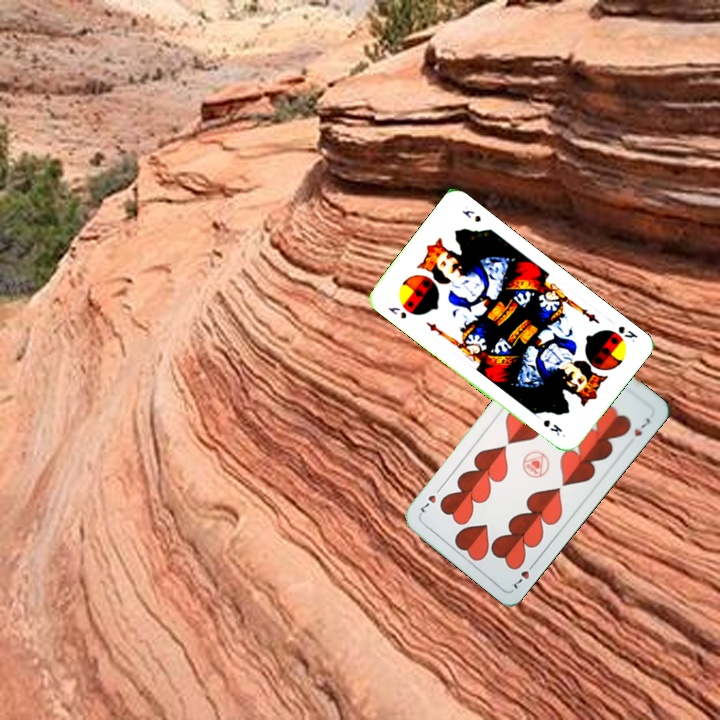H7: (509, 557, 539, 592)
SK: (614, 322, 640, 345), (384, 303, 409, 321)
